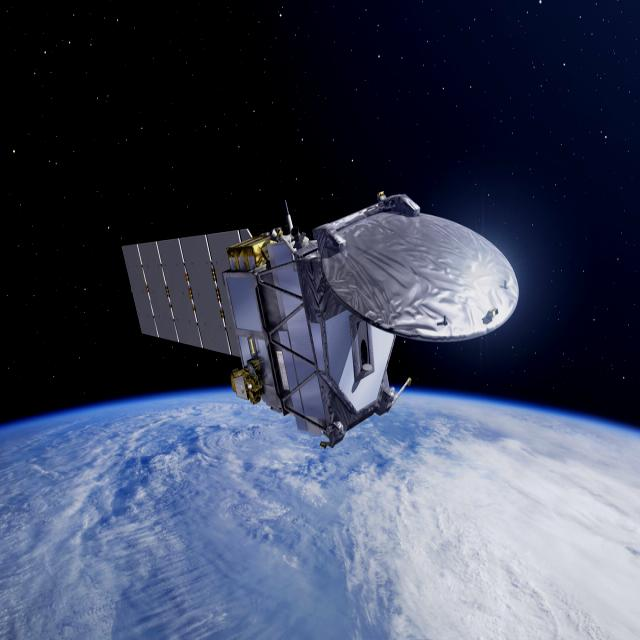satellite: (114, 177, 523, 465)
